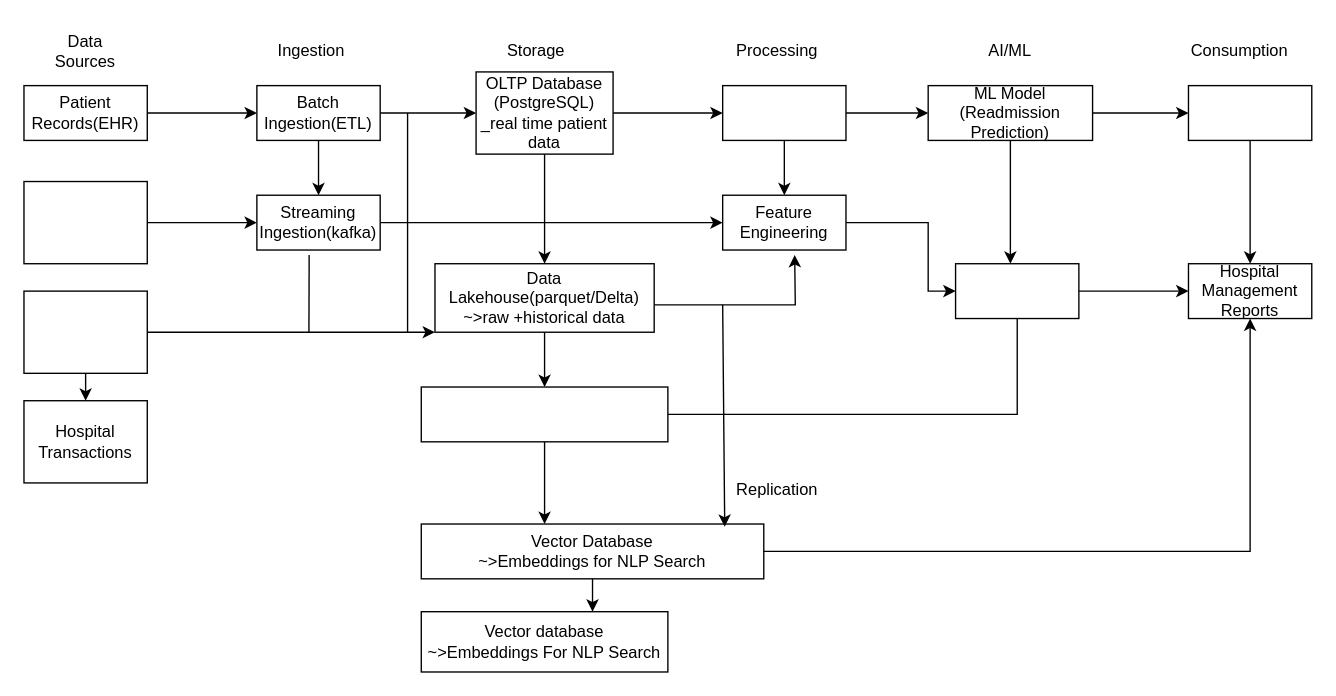
The diagram is 1336 pixels wide and 696 high, and some of its shapes have lost their labels. The centre of each missing label's shape, as x and y in pixels:
Data Processing (Spart/DuckDB): point (783, 112)
Data Warehouse ~>Reporting &Analytics: point (544, 414)
Doctor Dashboard: point (1249, 112)
Doctor Notes/Reports: point (85, 222)
ICU Monitoring: point (85, 331)
LLM+ RAG: point (1016, 290)
